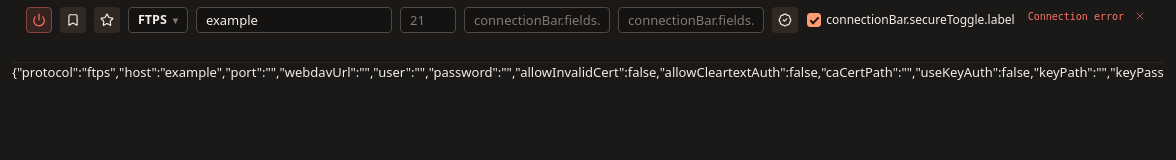
Test case: FTPS defaults to port 21 and keeps a custom CA behind certificate verification
Expected: the checkbox labelled "connectionBar.secureToggle.label" is checked, [807,13,821,27]
Click the button named "siteManagerDialog.fields.caCertFile" at (785, 20), box [772,7,798,33]
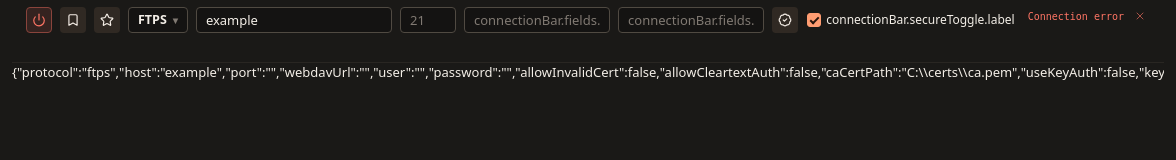
Click the checkbox labelled "connectionBar.secureToggle.label" at (814, 20), box [807,13,821,27]
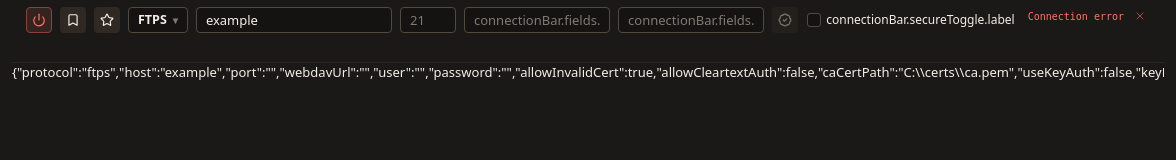
Expected: the button named "siteManagerDialog.fields.caCertFile" is disabled, [772,7,798,33]
